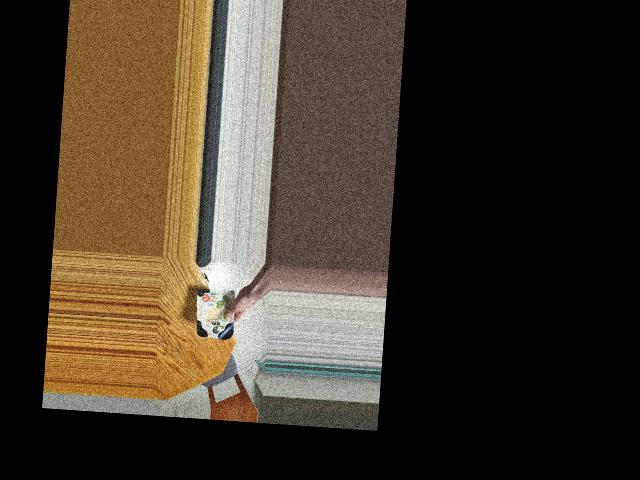cheese: (194, 277, 238, 351)
